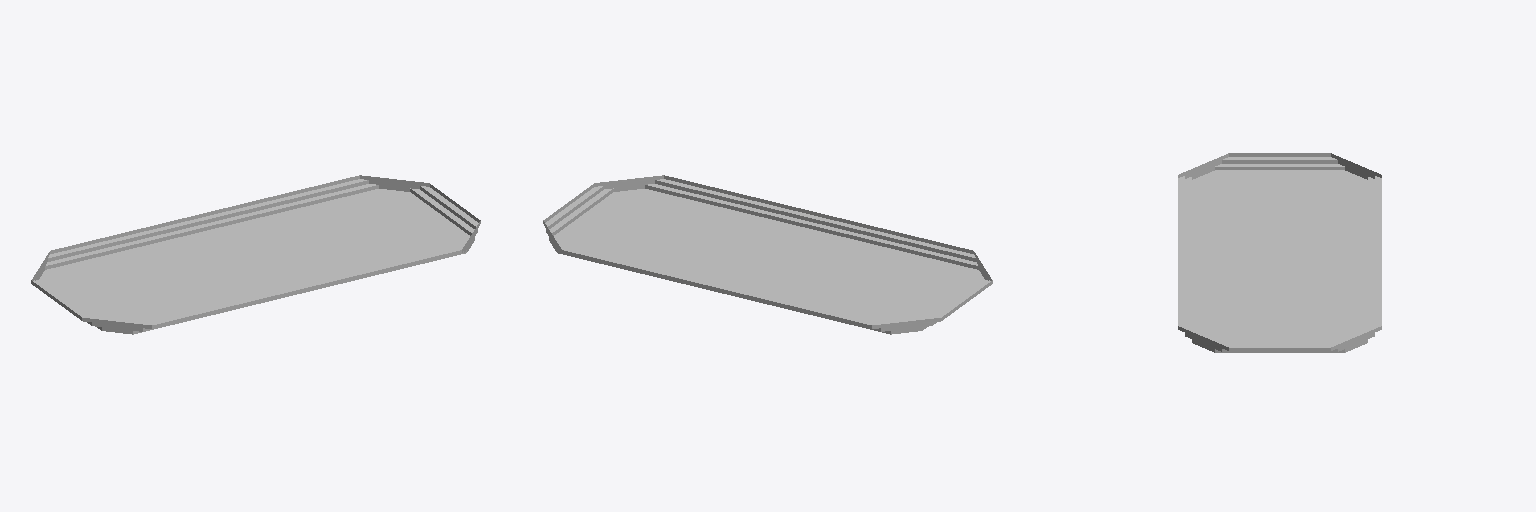
File: pit.obj
3 views of the same model, side by side, from view 1: azimuth 30°, elevation 25°; view 2: azimuth 150°, elevation 25°; view 3: azimuth 270°, elevation 25° (orthographic).
Parts seen in each view (by area): view 1: SketchUp_ID3; view 2: SketchUp_ID3; view 3: SketchUp_ID3.
Part boxes in pixels (left/top/right/bottom): SketchUp_ID3: left=31, top=175, right=480, bottom=334; SketchUp_ID3: left=543, top=175, right=992, bottom=334; SketchUp_ID3: left=1178, top=153, right=1381, bottom=352.
Bounding box in the file's own units: 6.79 × 0.1827 × 3.02.